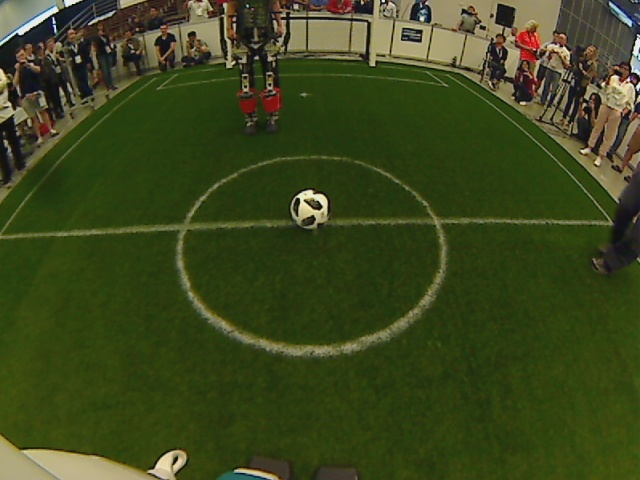ball: (289, 187, 331, 233)
goalpost: (357, 55, 384, 80), (216, 52, 238, 75)
robot: (235, 103, 287, 142)
